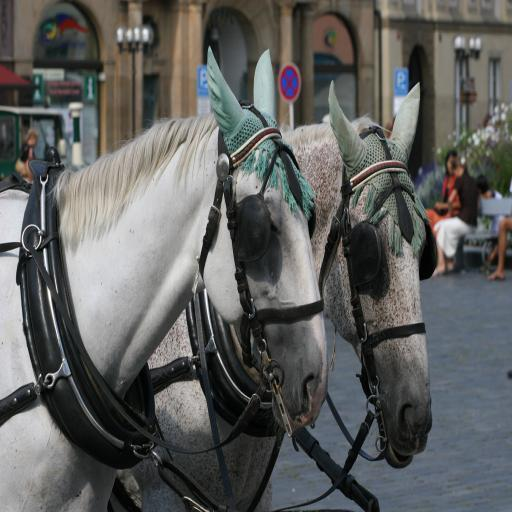horse: (0, 42, 327, 512), (105, 80, 434, 512)
